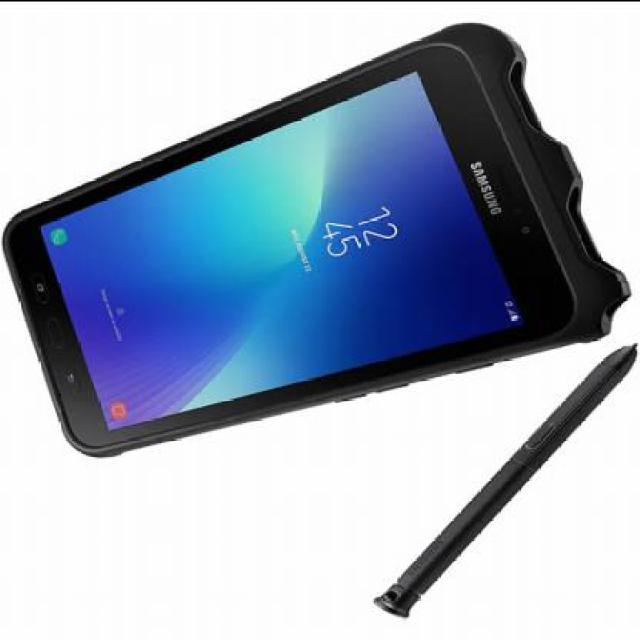smart phone: (39, 35, 628, 448)
